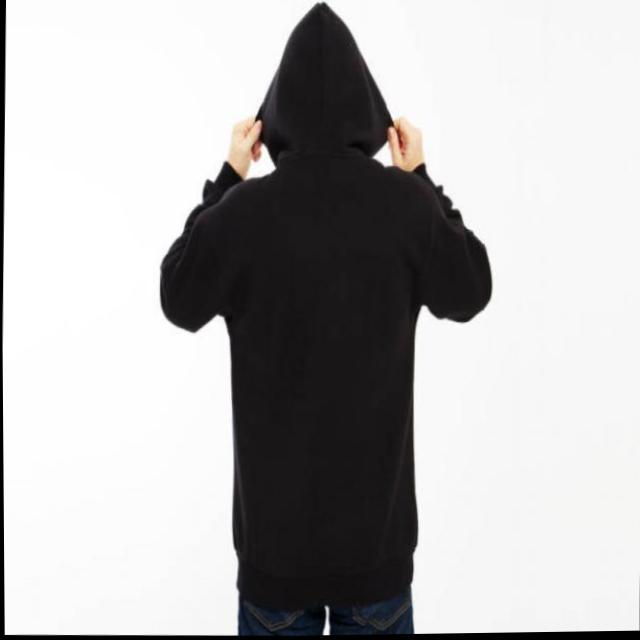no helmet: (216, 0, 417, 187)
